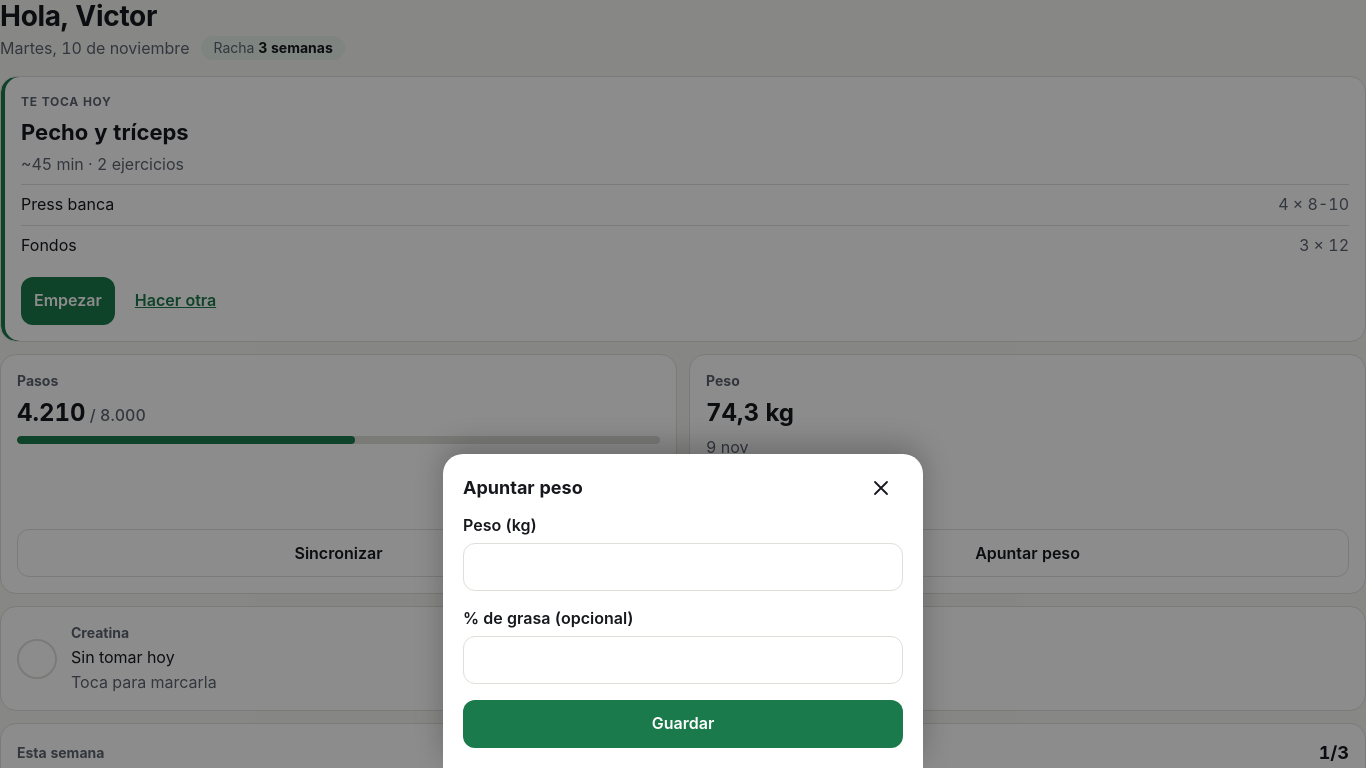
Hoy: hoja Apuntar peso › cerrar una hoja abierta con ?peso=1 no la reabre
Check: the heading "Hola, Victor" is shown, box x1=0 y1=0 x2=157 y2=33
Click the button named "Cerrar" at (881, 488), box x1=859 y1=466 x2=903 y2=510
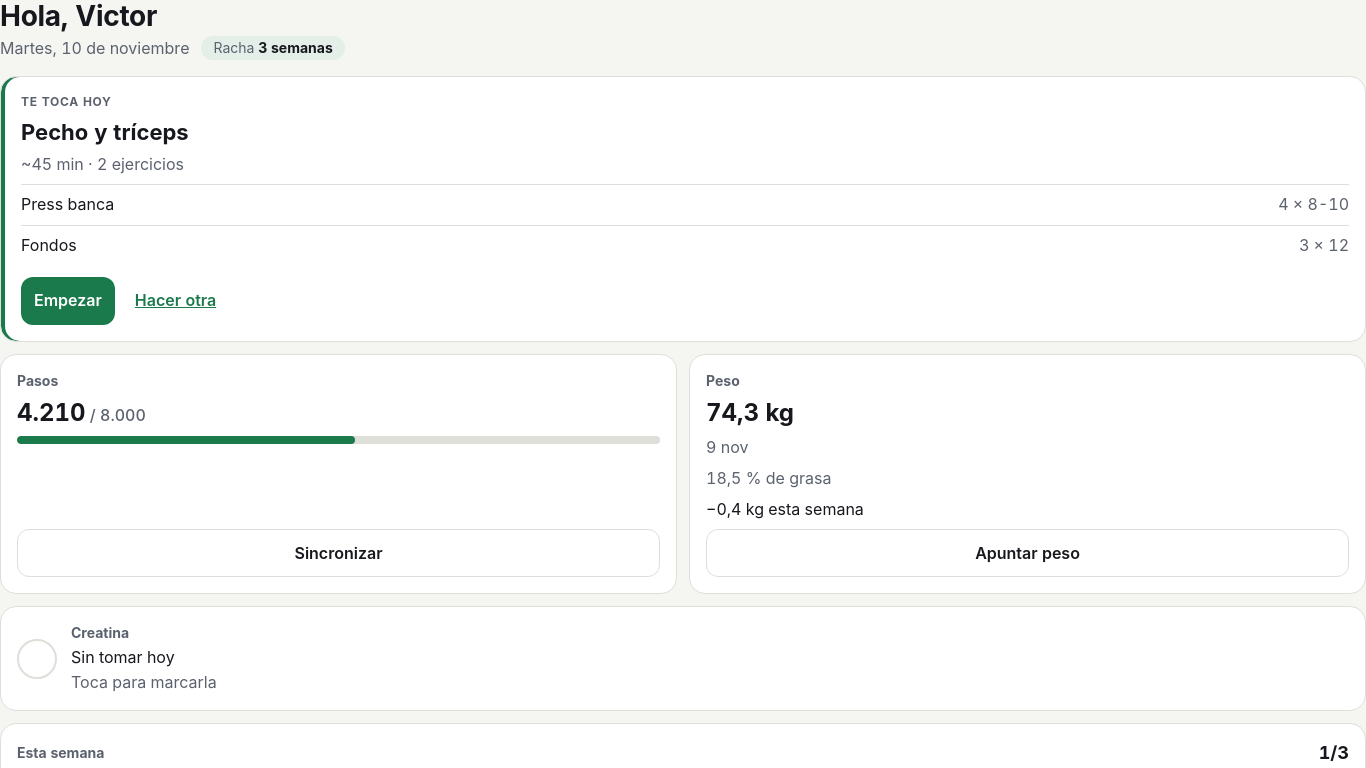
Check: the dialog is gone
